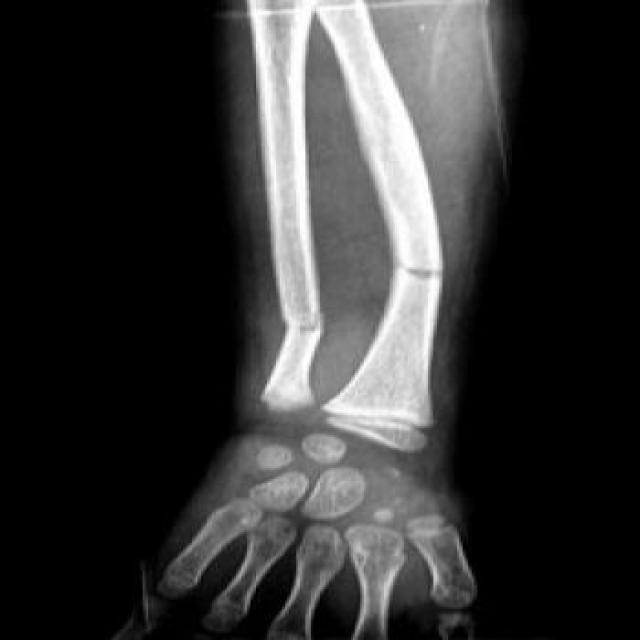Fracture: (370, 247, 476, 296), (275, 302, 339, 344)
